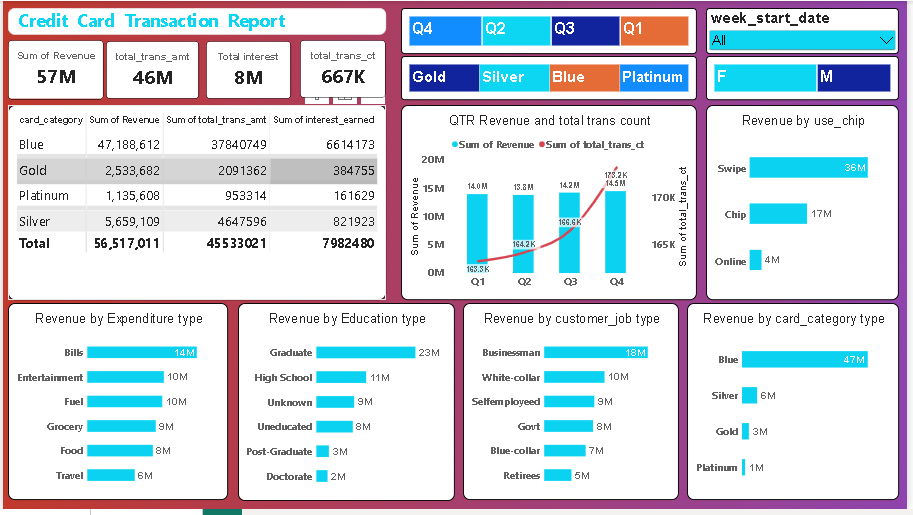

The dashboard page shown, as its layout file describes it:
{"tool":"powerbi","page":{"name":"CC Transcation","canvas":[1920,1080],"ordinal":0},"visuals":[{"type":"textbox","box":[10.6,14.9,803.6,57.4],"z":0},{"type":"lineStackedColumnComboChart","title":"QTR Revenue and total trans count","fields":{"Category":["public cc_details.qtr"],"Y":["Sum(public cc_details.Revenue)"],"Y2":["Sum(public cc_details.total_trans_ct)"]},"box":[846.1,221.1,629.3,414.6],"z":1000},{"type":"barChart","title":" Revenue by Expenditure type","fields":{"Category":["public cc_details.exp_type"],"Y":["Sum(public cc_details.Revenue)"]},"box":[10.6,642,467.7,418.8],"z":2000},{"type":"barChart","title":" Revenue by Education type","fields":{"Category":["public cust_details.education_level"],"Y":["Sum(public cc_details.Revenue)"]},"box":[499.6,642,461.3,420.9],"z":3000},{"type":"barChart","title":" Revenue by customer_job type","fields":{"Category":["public cust_details.customer_job"],"Y":["Sum(public cc_details.Revenue)"]},"box":[978,642,459.2,418.8],"z":4000},{"type":"barChart","title":" Revenue by card_category type","fields":{"Category":["public cc_details.card_category"],"Y":["Sum(public cc_details.Revenue)"]},"box":[1454.2,642,450.7,418.8],"z":5000},{"type":"barChart","title":" Revenue by use_chip","fields":{"Category":["public cc_details.use_chip"],"Y":["Sum(public cc_details.Revenue)"]},"box":[1494.6,221.1,410.3,414.6],"z":6000},{"type":"tableEx","fields":{"Values":["public cc_details.card_category","Sum(public cc_details.Revenue)","Sum(public cc_details.total_trans_amt)","Sum(public cc_details.interest_earned)"]},"box":[10.6,221.1,803.6,414.6],"z":7000},{"type":"cardVisual","fields":{"Data":["Sum(public cc_details.Revenue)"]},"box":[10.6,82.9,203,126.7],"z":8000},{"type":"cardVisual","fields":{"Data":["Sum(public cc_details.total_trans_amt)"]},"box":[219,85,197.7,123.3],"z":9000},{"type":"cardVisual","fields":{"Data":["Sum(public cc_details.interest_earned)"]},"box":[431.6,85,180.7,123.3],"z":10000},{"type":"cardVisual","fields":{"Data":["Sum(public cc_details.total_trans_ct)"]},"box":[631.4,82.9,182,123.3],"z":11000},{"type":"slicer","fields":{"Values":["public cc_details.week_start_date"]},"box":[1494.6,14.9,410.3,97.8],"z":12000},{"type":"treemap","fields":{"Group":["public cc_details.qtr"],"Values":["CountNonNull(public cc_details.client_num)"]},"box":[846.1,14.9,629.3,97.8],"z":13000},{"type":"treemap","fields":{"Group":["public cust_details.gender"],"Values":["CountNonNull(public cc_details.client_num)"]},"box":[1494.6,116.9,410.3,93.5],"z":14000},{"type":"treemap","fields":{"Group":["public cc_details.card_category"],"Values":["Avg(public cc_details.client_num)"]},"box":[846.1,116.9,629.3,93.5],"z":15000}]}

Visuals, with their boxes in screenshot pixels (x1, y1, x2, y2), scaled from the page's 1920x1080 canvas onto the 913x515 screenshot:
textbox: (left=5, top=7, right=387, bottom=34)
"QTR Revenue and total trans count" lineStackedColumnComboChart: (left=402, top=105, right=702, bottom=303)
" Revenue by Expenditure type" barChart: (left=5, top=306, right=227, bottom=506)
" Revenue by Education type" barChart: (left=238, top=306, right=457, bottom=507)
" Revenue by customer_job type" barChart: (left=465, top=306, right=683, bottom=506)
" Revenue by card_category type" barChart: (left=692, top=306, right=906, bottom=506)
" Revenue by use_chip" barChart: (left=711, top=105, right=906, bottom=303)
tableEx - public cc_details.card_category x Sum(public cc_details.Revenue): (left=5, top=105, right=387, bottom=303)
cardVisual - Sum(public cc_details.Revenue): (left=5, top=40, right=102, bottom=100)
cardVisual - Sum(public cc_details.total_trans_amt): (left=104, top=41, right=198, bottom=99)
cardVisual - Sum(public cc_details.interest_earned): (left=205, top=41, right=291, bottom=99)
cardVisual - Sum(public cc_details.total_trans_ct): (left=300, top=40, right=387, bottom=98)
slicer - public cc_details.week_start_date: (left=711, top=7, right=906, bottom=54)
treemap - public cc_details.qtr x CountNonNull(public cc_details.client_num): (left=402, top=7, right=702, bottom=54)
treemap - public cust_details.gender x CountNonNull(public cc_details.client_num): (left=711, top=56, right=906, bottom=100)
treemap - public cc_details.card_category x Avg(public cc_details.client_num): (left=402, top=56, right=702, bottom=100)
